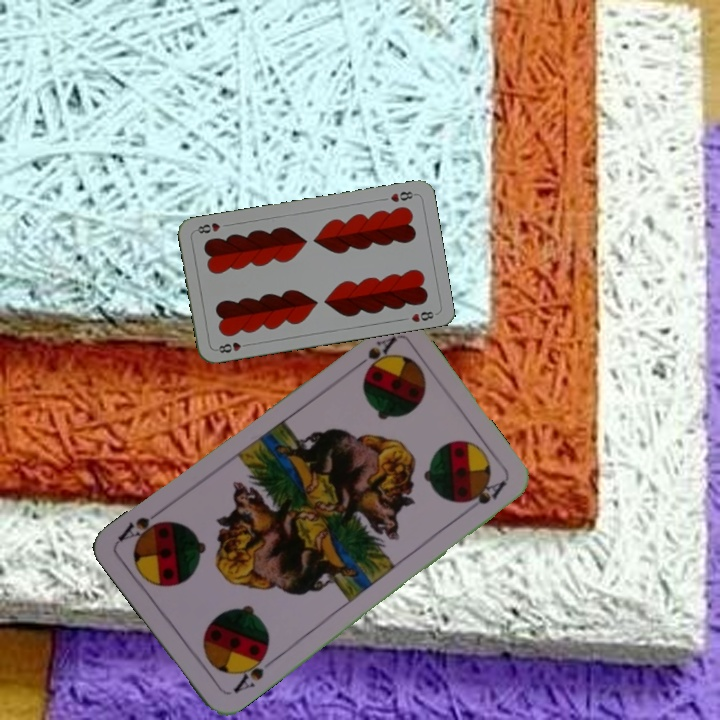H8: (212, 338, 252, 355), (386, 187, 418, 205)
SA: (348, 332, 399, 377), (229, 648, 270, 697)
